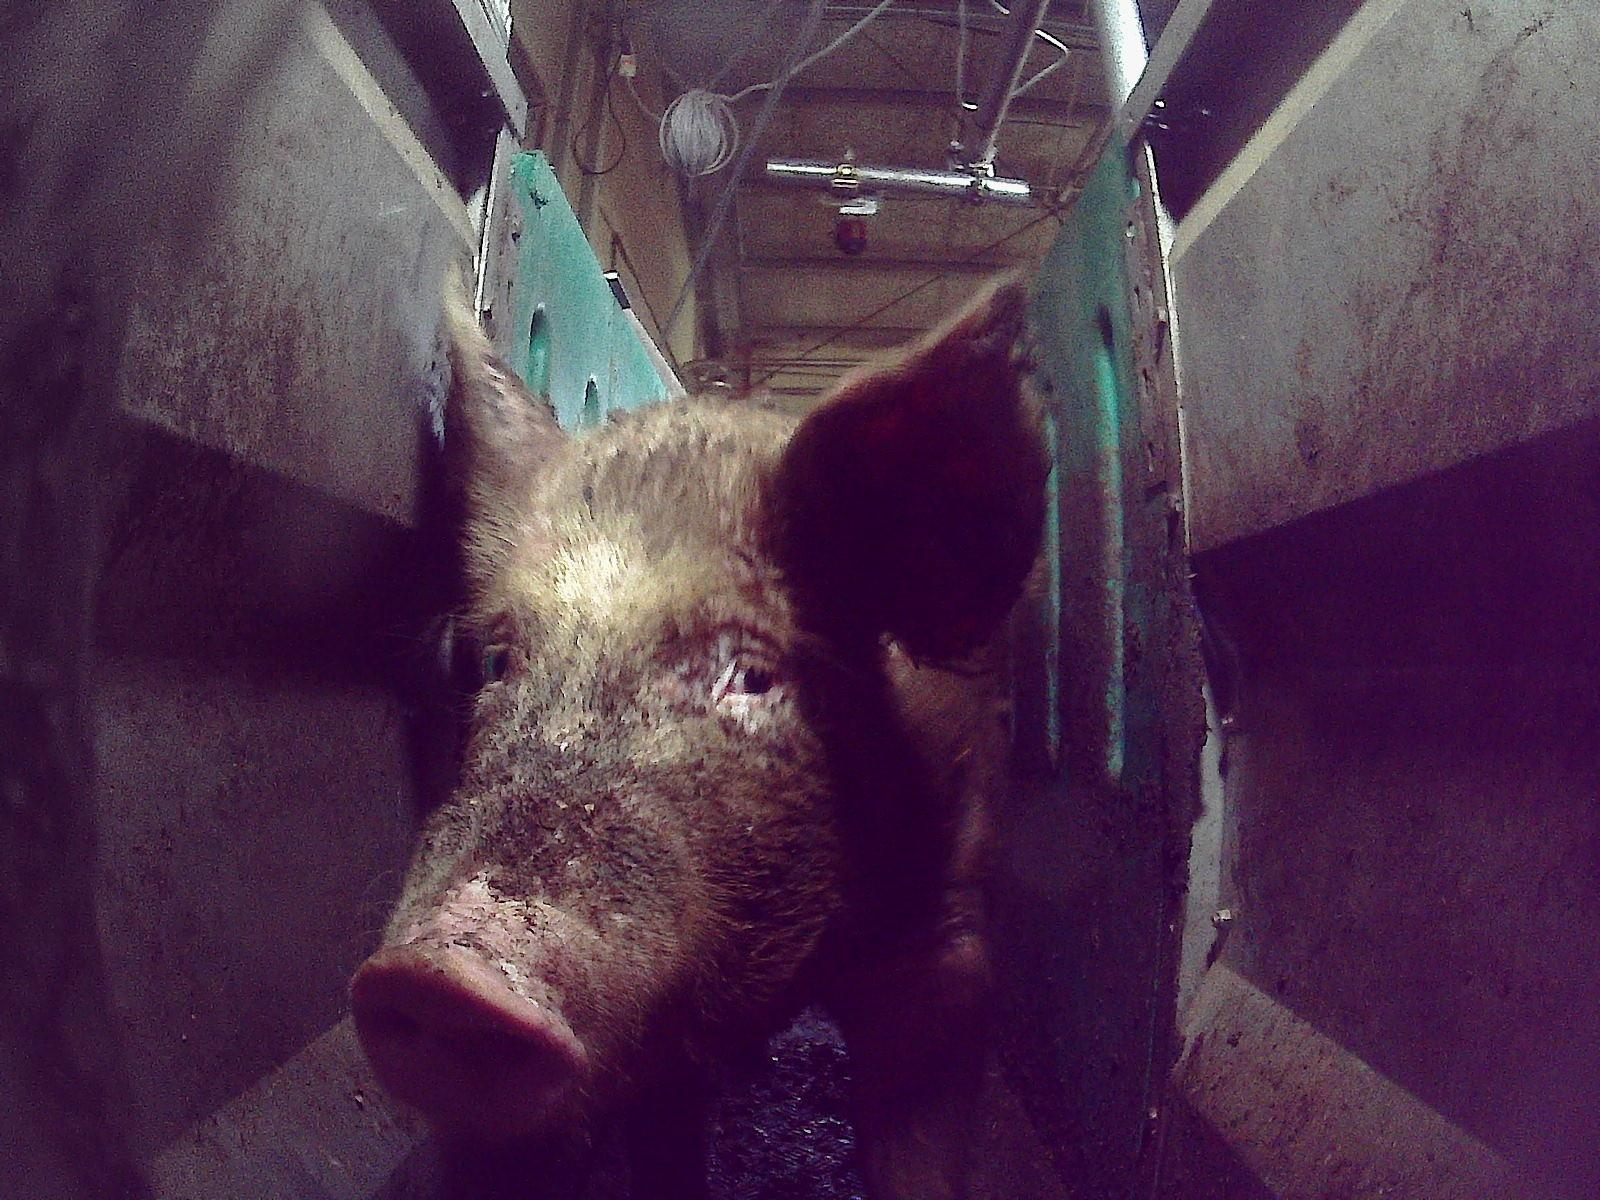Face: (348, 450, 844, 1141)
